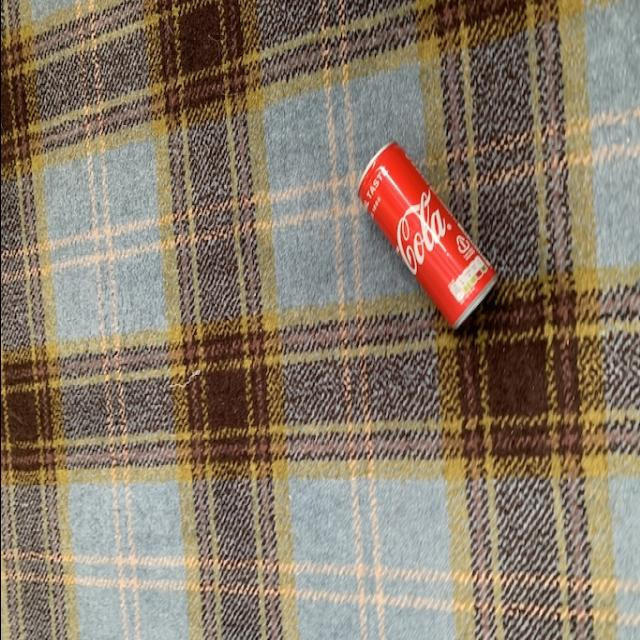litter: (351, 135, 495, 336)
